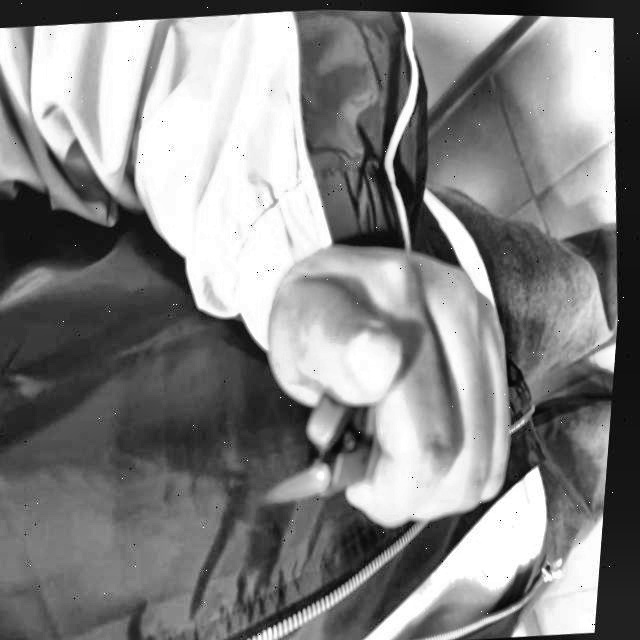Fire: (262, 455, 340, 505)
